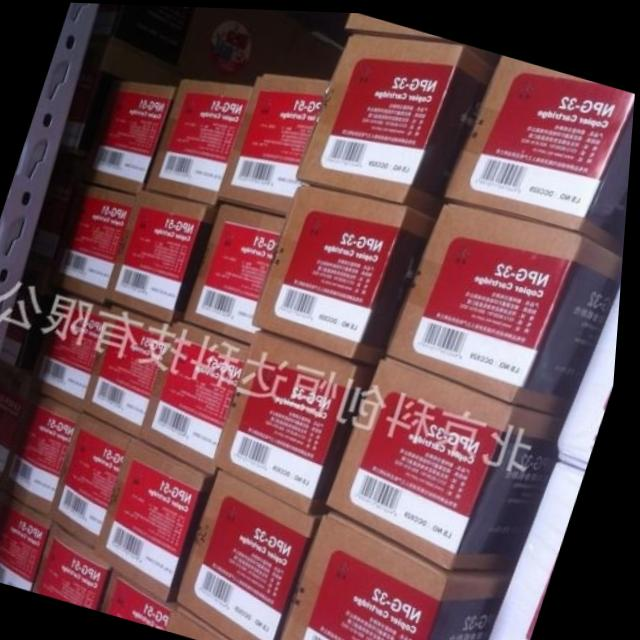box: (390, 197, 626, 413), (334, 354, 568, 568), (445, 50, 636, 251), (298, 28, 495, 214), (257, 183, 439, 364), (290, 505, 518, 640), (220, 327, 380, 513), (183, 466, 330, 640), (102, 434, 221, 602), (142, 321, 251, 474), (219, 71, 330, 217), (108, 187, 219, 323), (187, 201, 286, 343), (144, 77, 255, 203), (86, 302, 173, 434), (58, 412, 135, 547), (36, 291, 117, 411), (11, 391, 87, 518), (93, 80, 177, 193), (62, 183, 137, 301)
